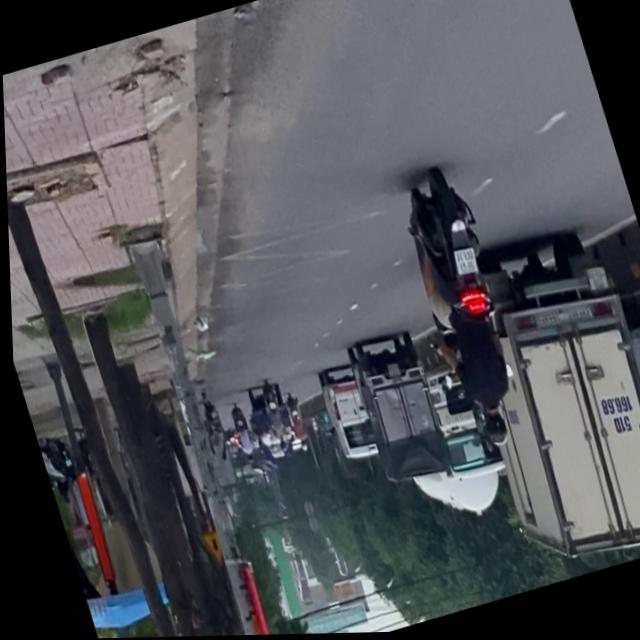helmet: (477, 406, 510, 451)
licenseplate: (387, 163, 539, 460)
nohelmet: (451, 249, 478, 279)
